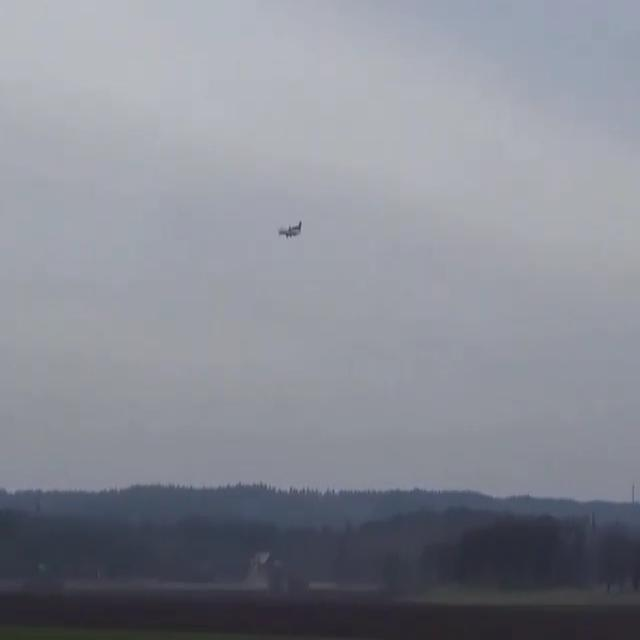AirPlane: (276, 217, 313, 249)
